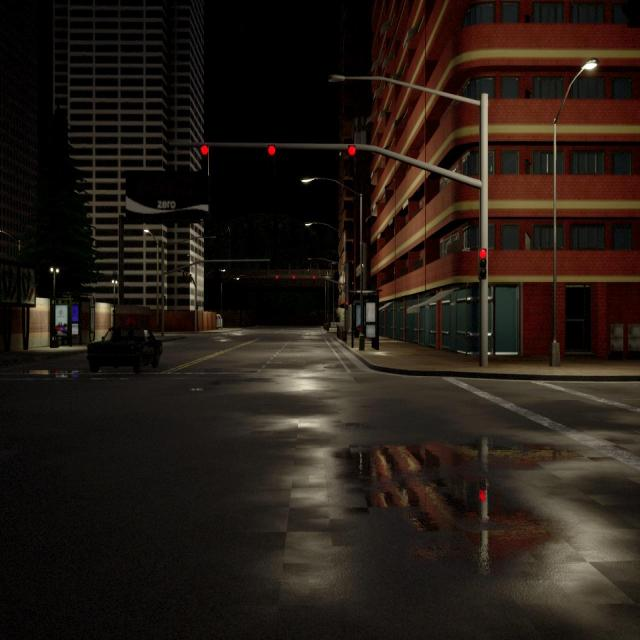Pedestrian: (126, 312, 134, 336)
Vehicle: (87, 327, 162, 372), (216, 314, 223, 330)
traffic_light: (478, 248, 487, 280), (200, 144, 209, 174), (267, 144, 276, 171), (348, 145, 356, 175), (345, 301, 348, 310), (292, 274, 296, 280), (275, 275, 279, 280), (312, 275, 316, 280)
